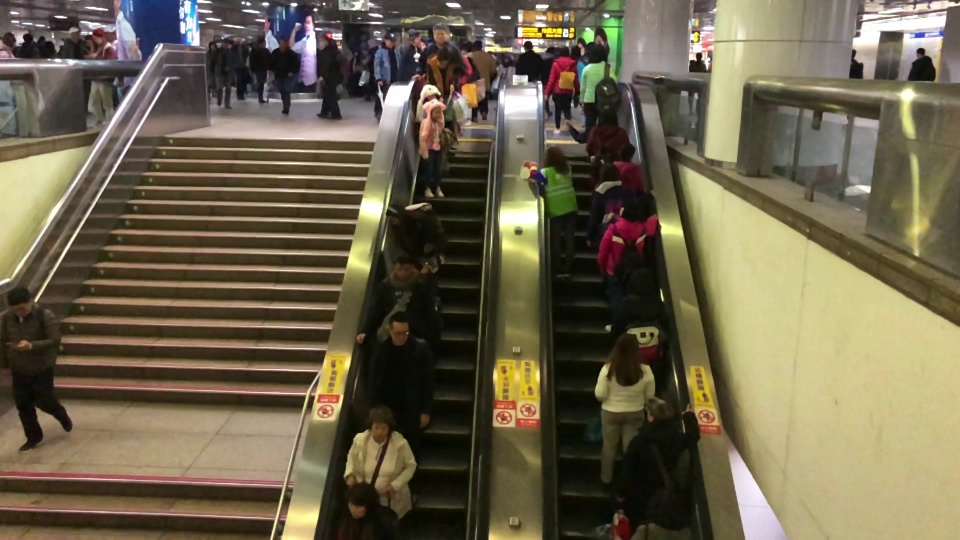person_head: (344, 482, 379, 520), (648, 491, 684, 527), (366, 405, 396, 439), (610, 333, 640, 364), (627, 267, 655, 296), (387, 309, 410, 344), (7, 287, 34, 316), (646, 397, 674, 423), (390, 252, 415, 281), (618, 198, 643, 221), (543, 146, 565, 169), (597, 104, 619, 125), (587, 42, 608, 63), (433, 23, 451, 45), (385, 205, 403, 225), (599, 163, 619, 180), (436, 48, 451, 68), (3, 31, 16, 48), (409, 29, 421, 46), (384, 32, 396, 47), (430, 105, 441, 119), (93, 29, 103, 44), (69, 27, 81, 39), (915, 46, 926, 59), (471, 39, 483, 50), (585, 41, 596, 53), (23, 31, 34, 42), (558, 46, 569, 57), (318, 36, 328, 48), (278, 37, 288, 48), (522, 40, 533, 49), (546, 45, 555, 54), (695, 52, 703, 61), (503, 54, 510, 63), (851, 48, 857, 58), (258, 39, 265, 47), (222, 39, 228, 48)
person_vbox: (367, 309, 435, 507), (0, 287, 74, 455), (592, 332, 658, 489), (342, 405, 419, 522), (355, 251, 445, 350), (596, 197, 660, 330), (523, 146, 579, 280), (623, 396, 701, 490), (609, 267, 672, 366), (584, 163, 657, 247), (383, 202, 449, 284), (612, 490, 695, 540), (583, 103, 631, 187), (334, 482, 398, 540), (578, 41, 622, 116), (412, 23, 466, 81), (544, 45, 580, 132), (84, 28, 117, 122), (317, 34, 349, 121), (419, 104, 448, 198), (64, 27, 93, 116), (271, 37, 302, 114), (373, 32, 400, 116), (469, 39, 496, 123), (210, 39, 240, 111), (842, 48, 864, 128), (576, 41, 596, 127), (424, 50, 457, 99), (397, 28, 422, 81), (686, 51, 707, 113), (250, 39, 269, 103), (517, 39, 544, 81), (906, 47, 937, 82), (542, 46, 555, 116), (17, 32, 39, 59), (496, 52, 515, 82), (0, 31, 16, 57)
